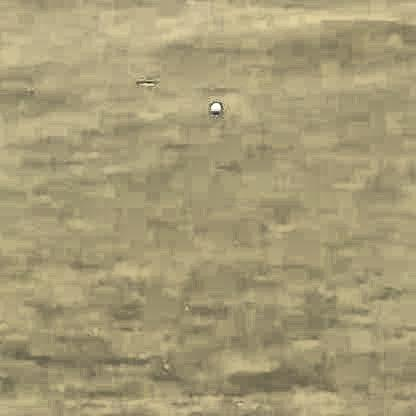golfball: (208, 99, 220, 113)
